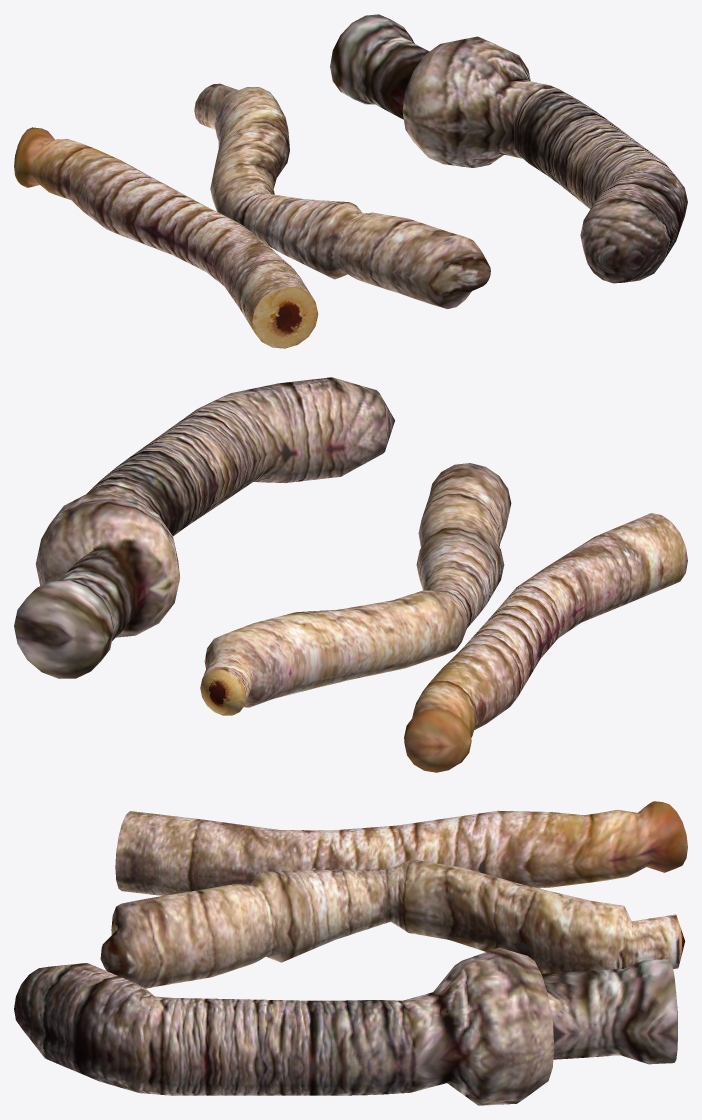
The model's file is yuanzhi.FBX.
The picture shows the model from 3 angles, top to bottom: view 1: azimuth 30°, elevation 25°; view 2: azimuth 150°, elevation 25°; view 3: azimuth 270°, elevation 25°; orthographic projection. The views are drawn at different scales.
Visible parts, largest first — view 1: Cylinder003, Cylinder002, Cylinder001; view 2: Cylinder003, Cylinder002, Cylinder001; view 3: Cylinder003, Cylinder002, Cylinder001.
Part boxes in pixels (bbox=[...]): Cylinder003: bbox=[330, 14, 687, 283]; Cylinder002: bbox=[194, 83, 490, 308]; Cylinder001: bbox=[14, 127, 318, 348]; Cylinder003: bbox=[14, 377, 394, 678]; Cylinder002: bbox=[200, 463, 511, 715]; Cylinder001: bbox=[404, 513, 687, 772]; Cylinder003: bbox=[14, 947, 677, 1105]; Cylinder002: bbox=[100, 859, 685, 988]; Cylinder001: bbox=[115, 801, 687, 895].
Size of the model in its own units: 42.76 by 10.75 by 45.97.
Materials: 1 (1 with a texture image).
